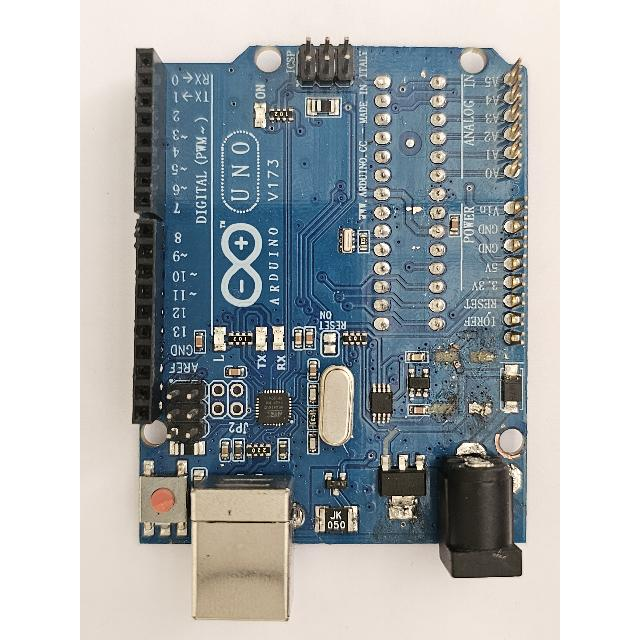missing_analog_pins: (502, 51, 533, 355)
missing_atmega: (371, 67, 459, 337)
missing_capacitors: (432, 345, 502, 427)
